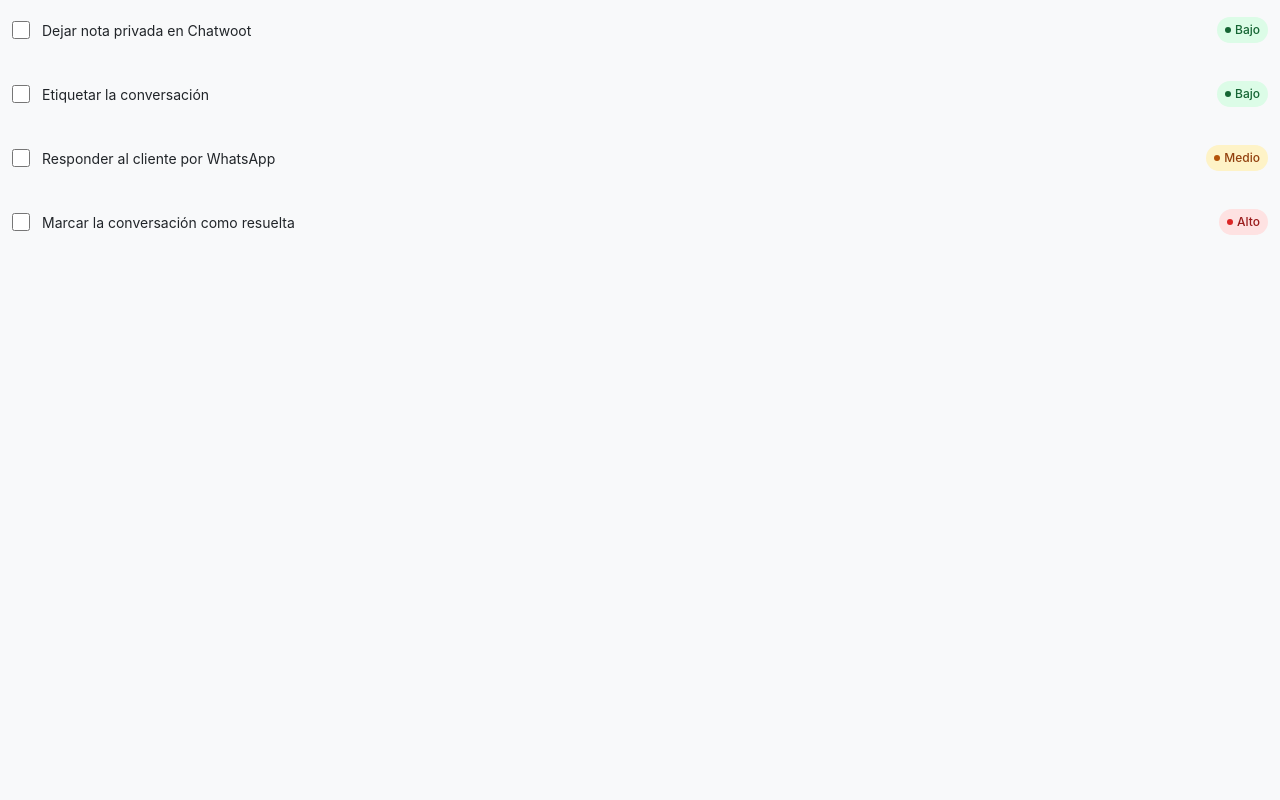
AssistantActionsEditor › habilitar una acción ROJA NO aplica el cambio hasta confirmar
Click the checkbox labelled "Marcar la conversación como resuelta Alto": (21, 222) [12,213,30,231]
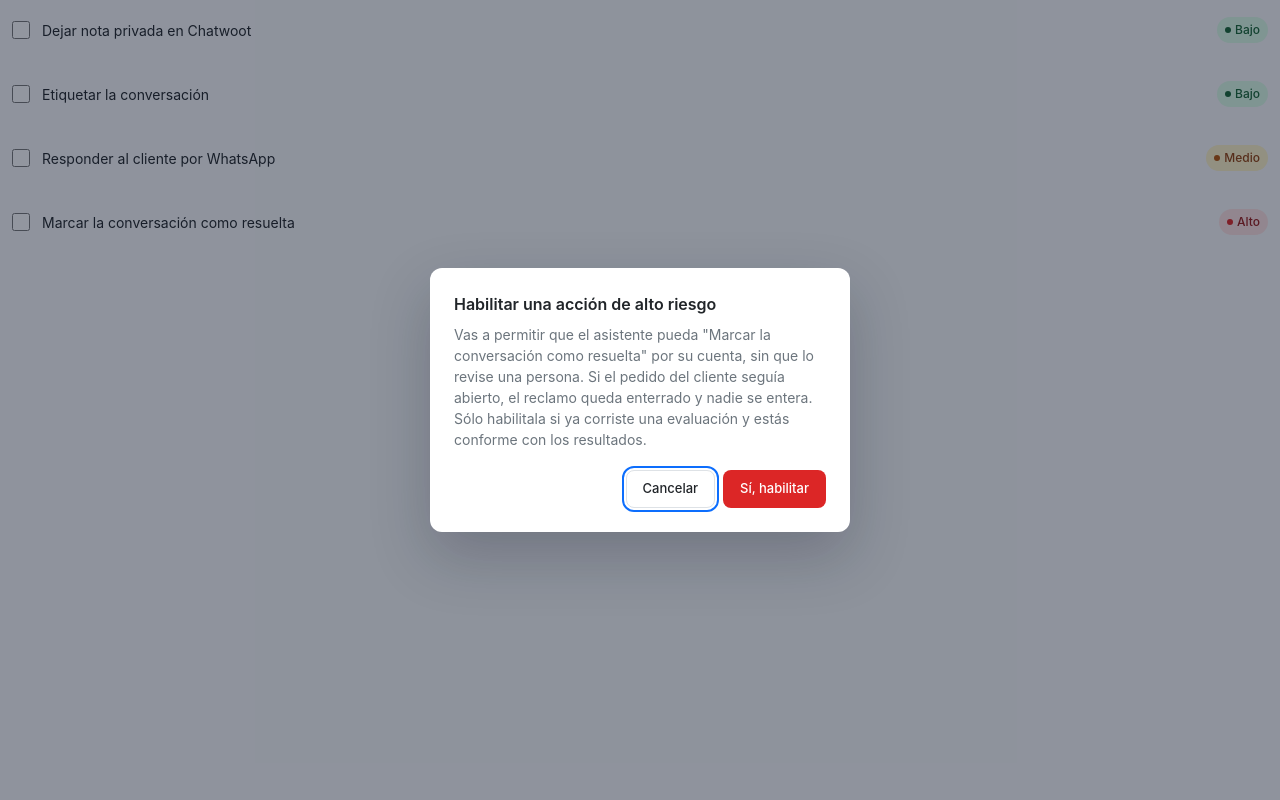
Expected: the heading "Habilitar una acción de alto riesgo" is shown, [454,294,716,314]
